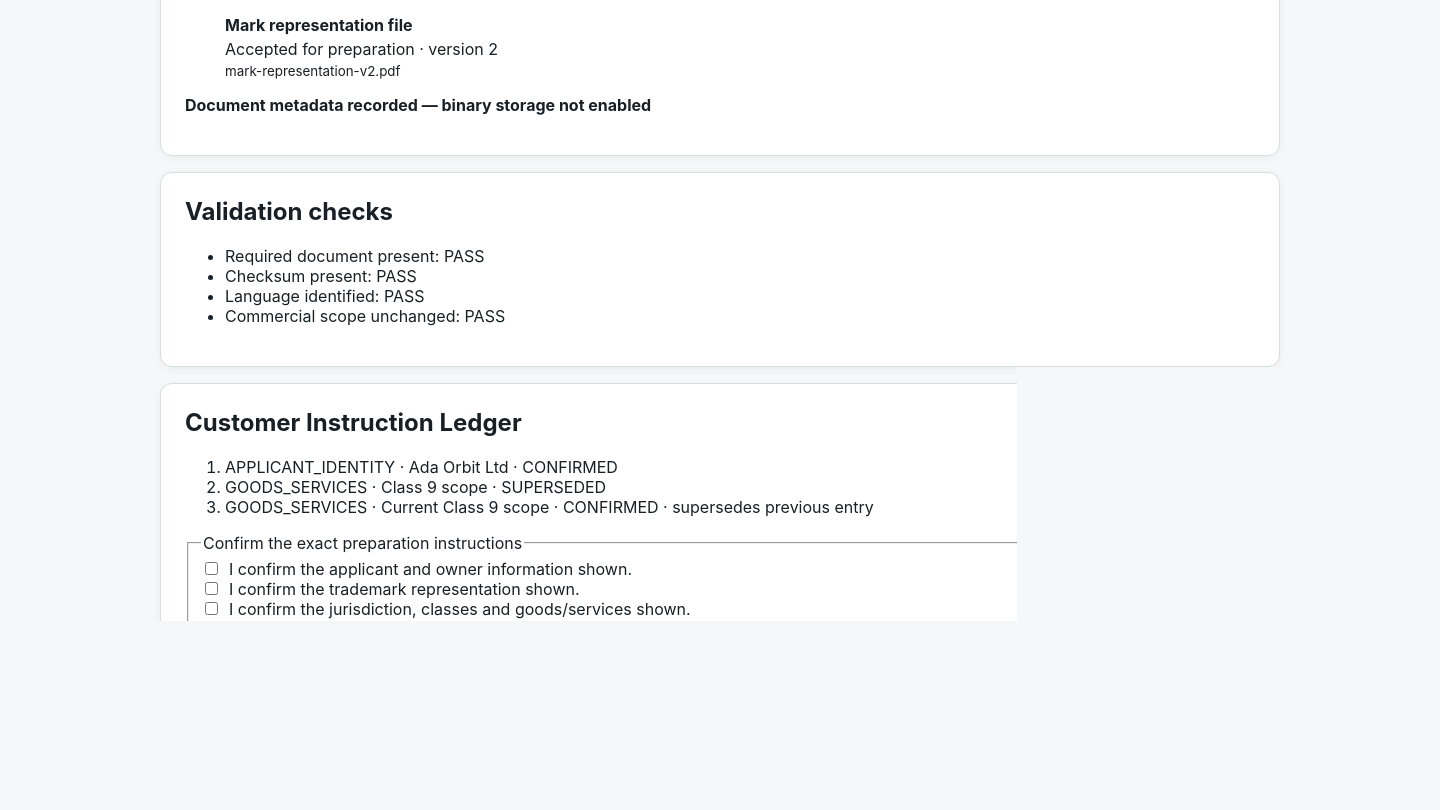
Scenario: Documents and Instructions workspace › leaves every acknowledgement unselected and disables locking
(page scrolled)
Expected: the checkbox labelled "I confirm the trademark representation shown." is not checked, [205,582,218,595]
Expected: the 3rd checkbox is not checked, [205,602,218,615]
Click the checkbox labelled "I confirm the applicant and owner information shown." at (212, 569), box [205,562,218,575]
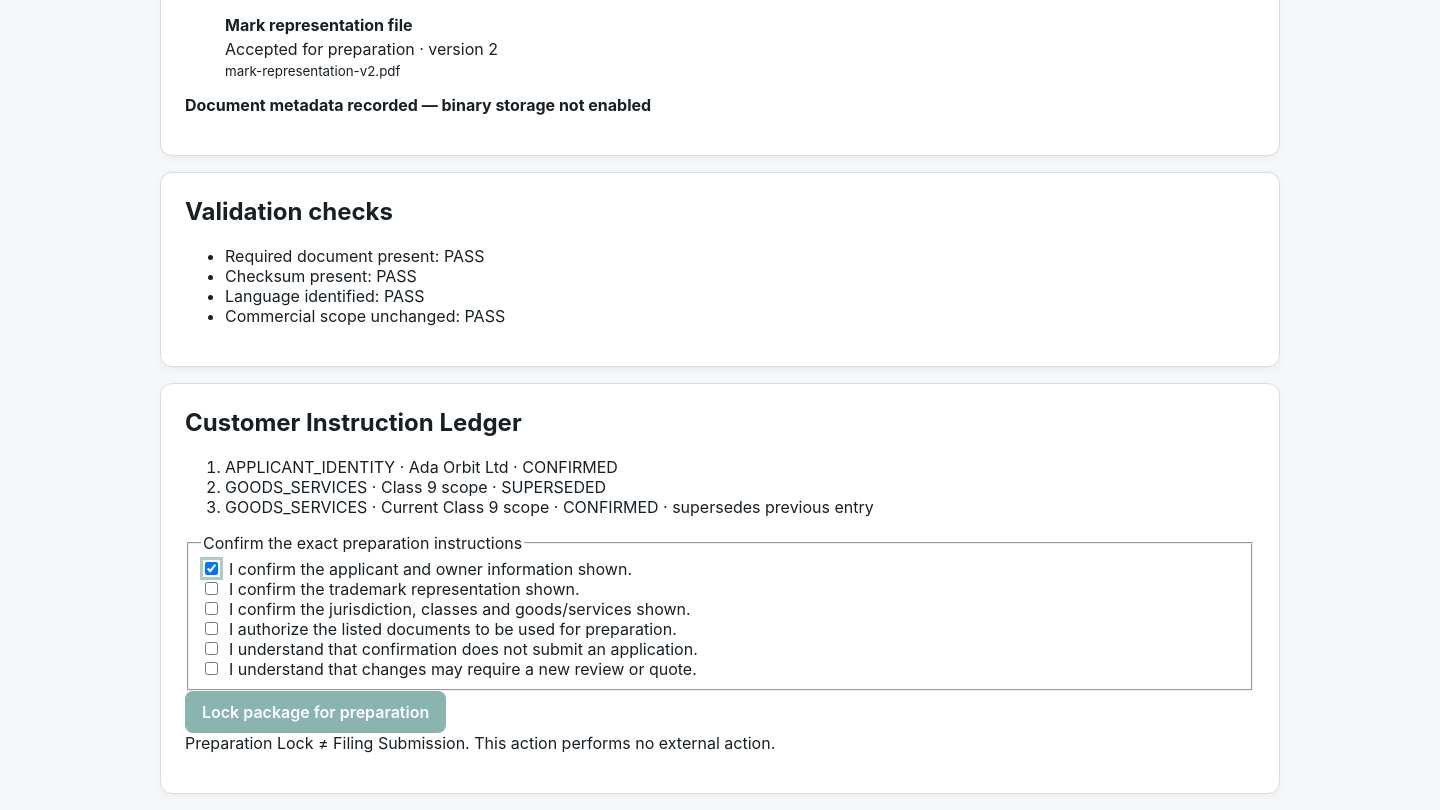
Click the checkbox labelled "I confirm the trademark representation shown." at (212, 589), box [205,582,218,595]
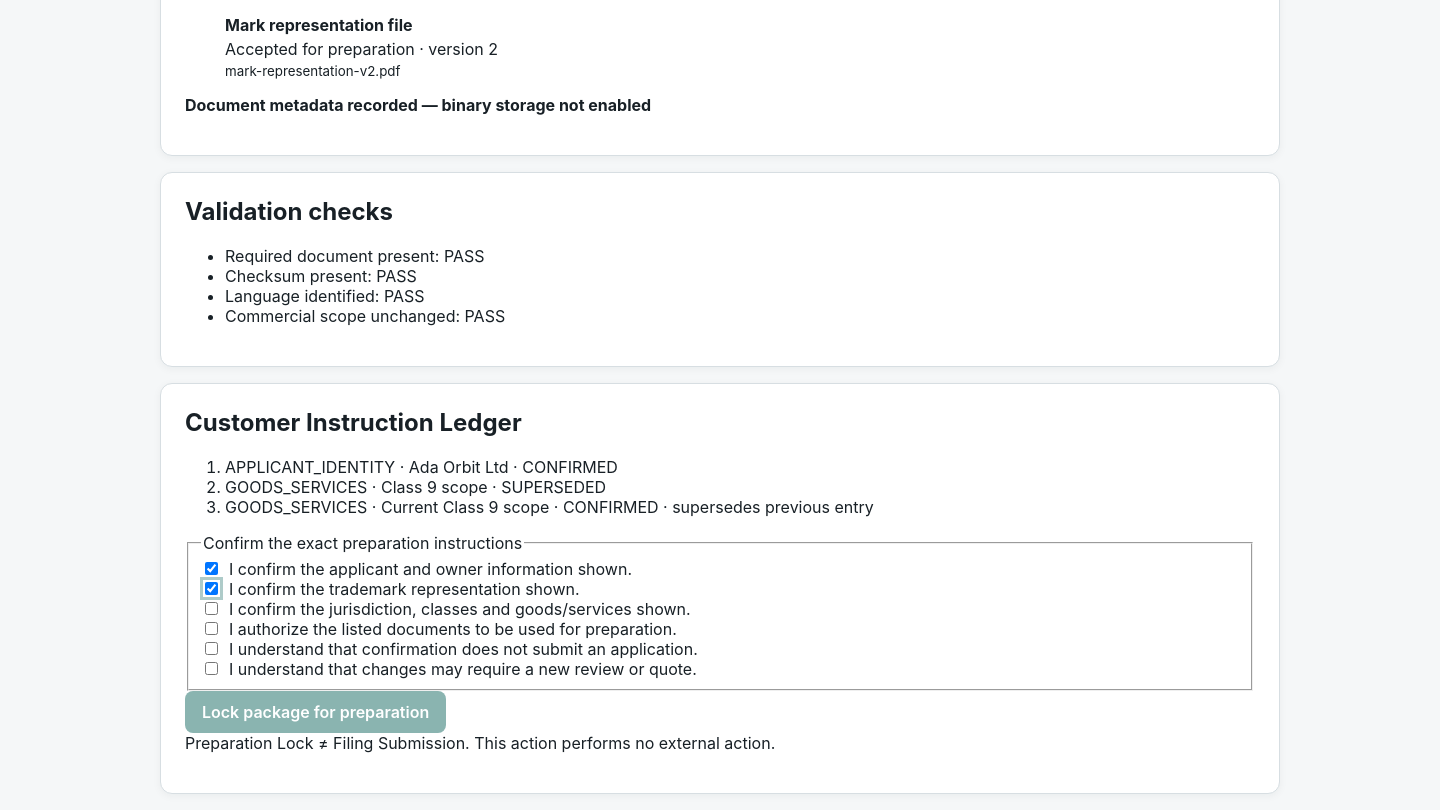
Click the 3rd checkbox at (212, 609), box [205,602,218,615]
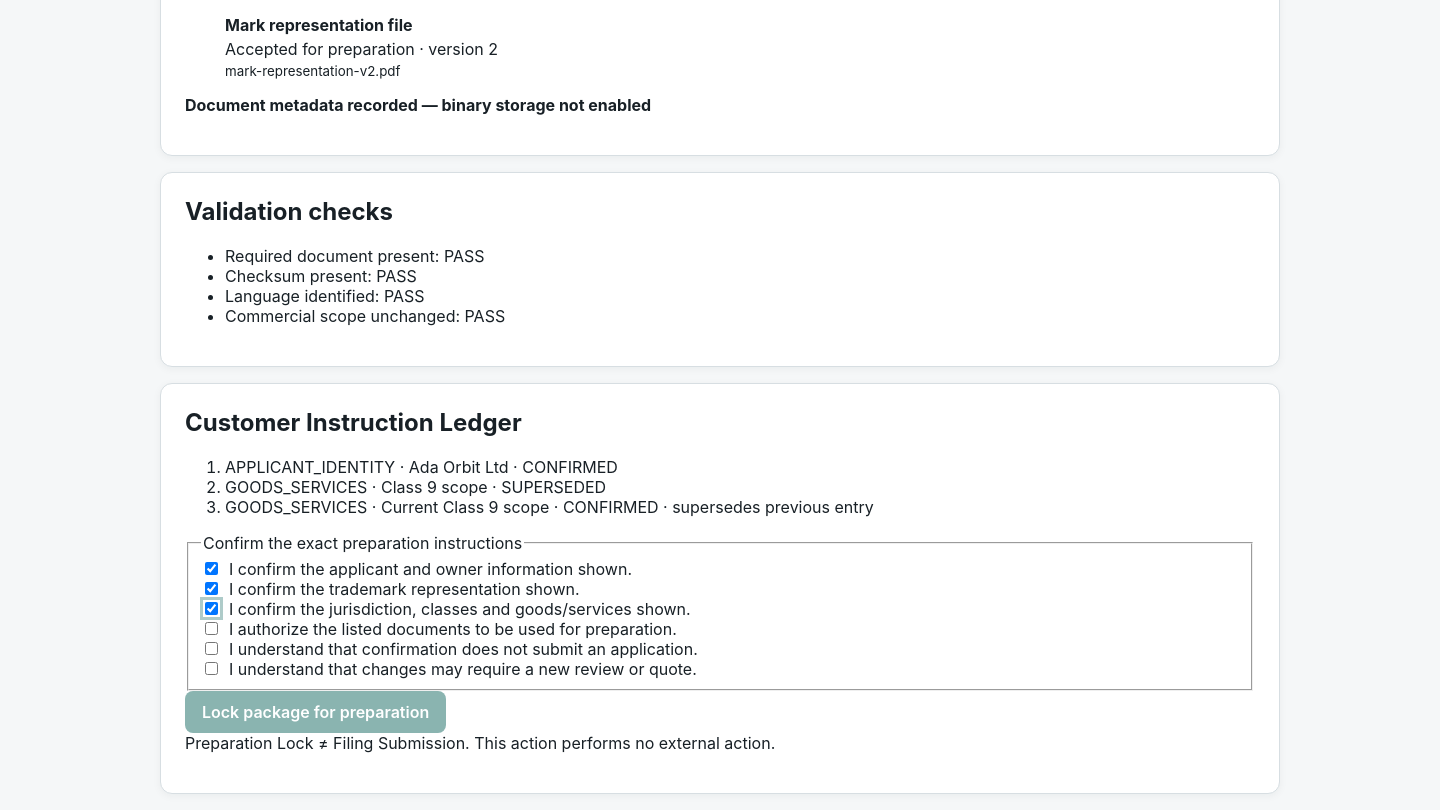
Click the checkbox labelled "I authorize the listed documents to be used for preparation." at (212, 629), box [205,622,218,635]
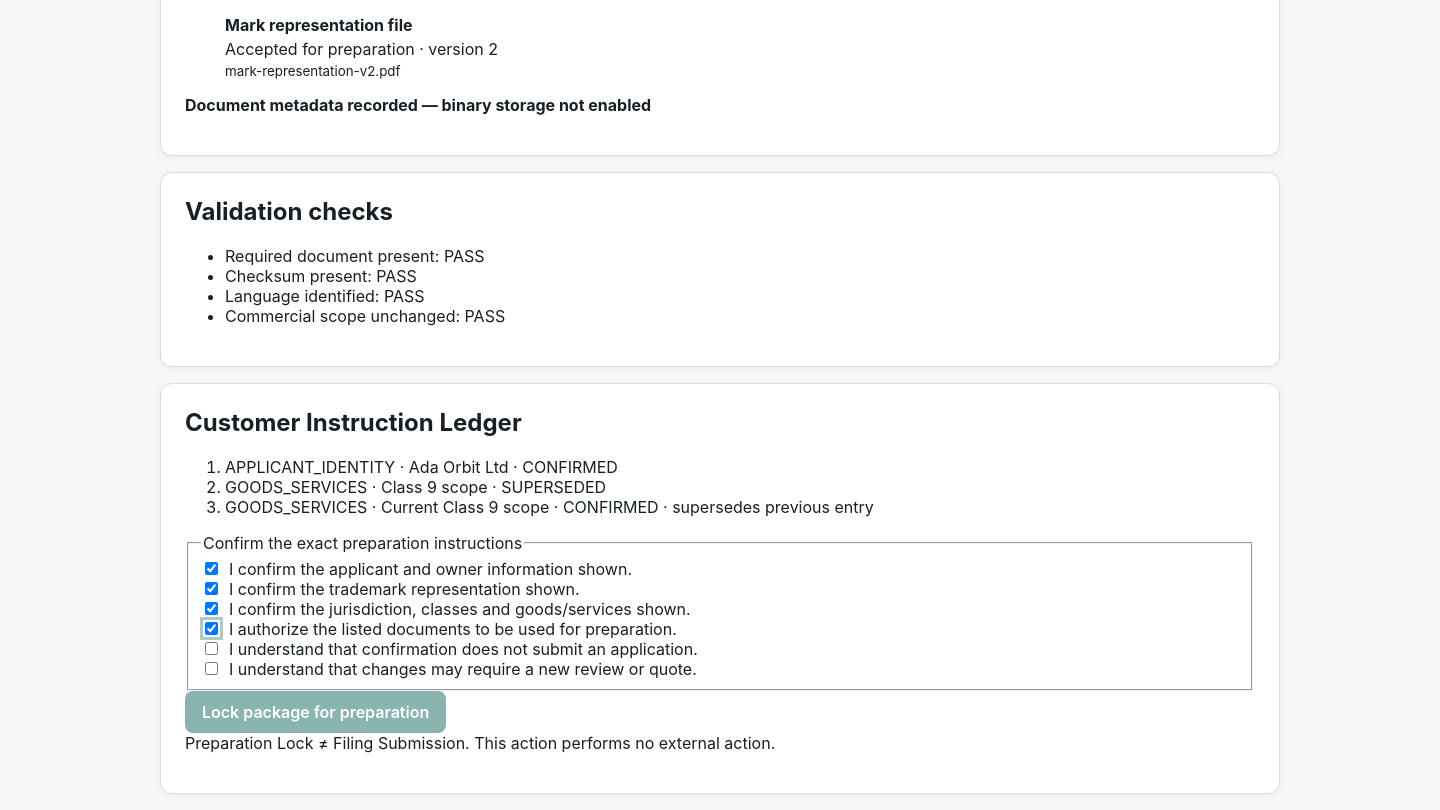
Click the 5th checkbox at (212, 649), box [205,642,218,655]
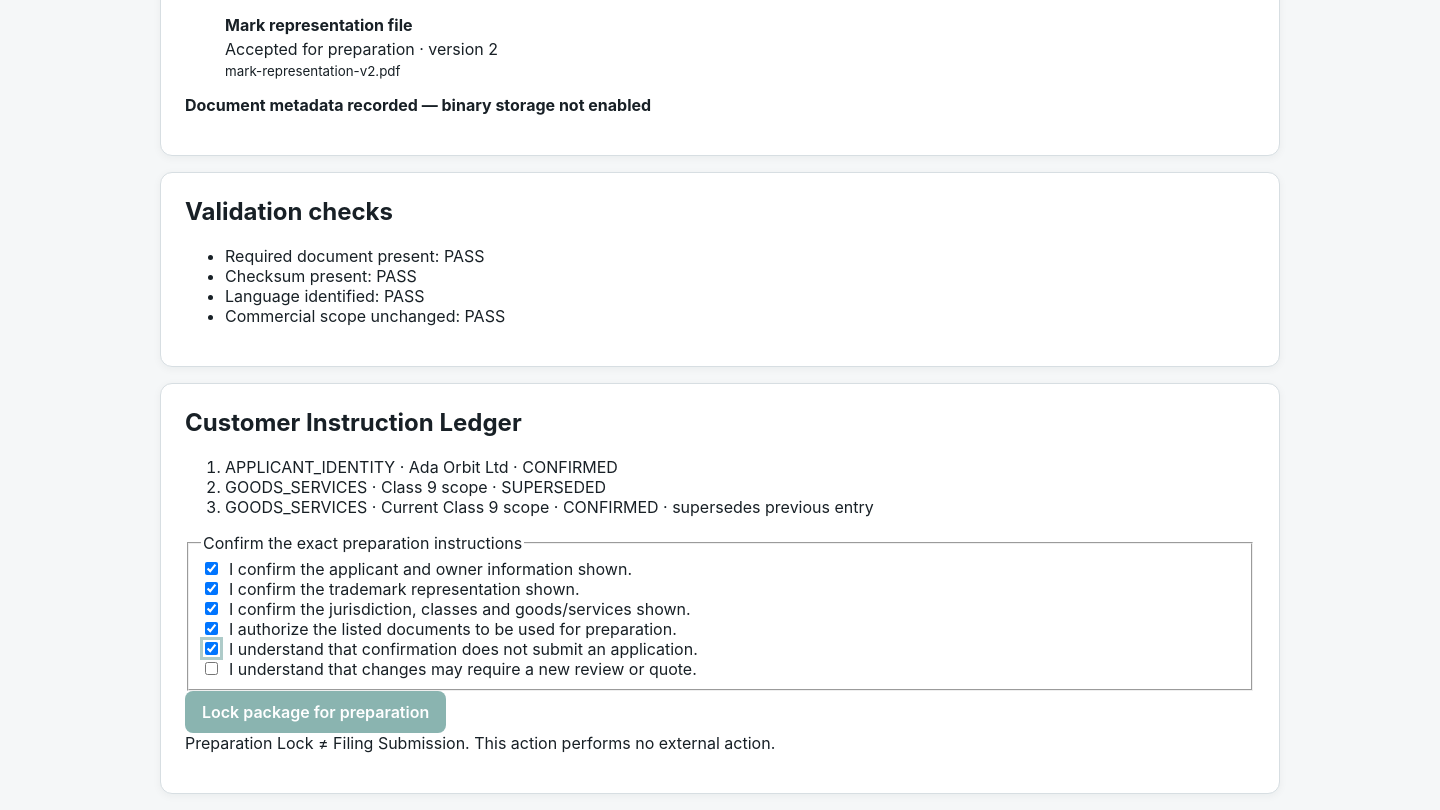
Click the checkbox labelled "I understand that changes may require a new review or quote." at (212, 669), box [205,662,218,675]
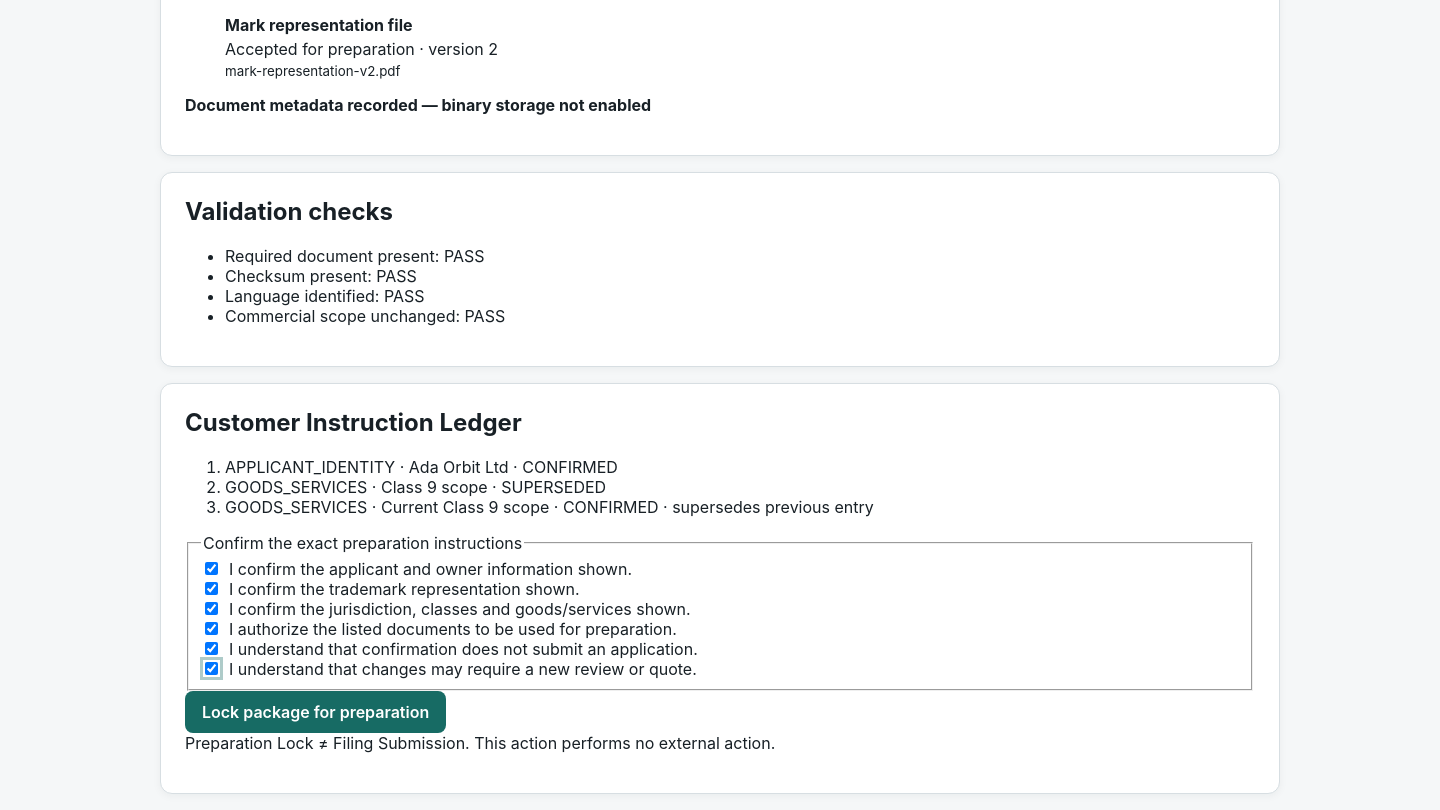
Expected: the button "Lock package for preparation" is enabled, [185,691,446,734]
